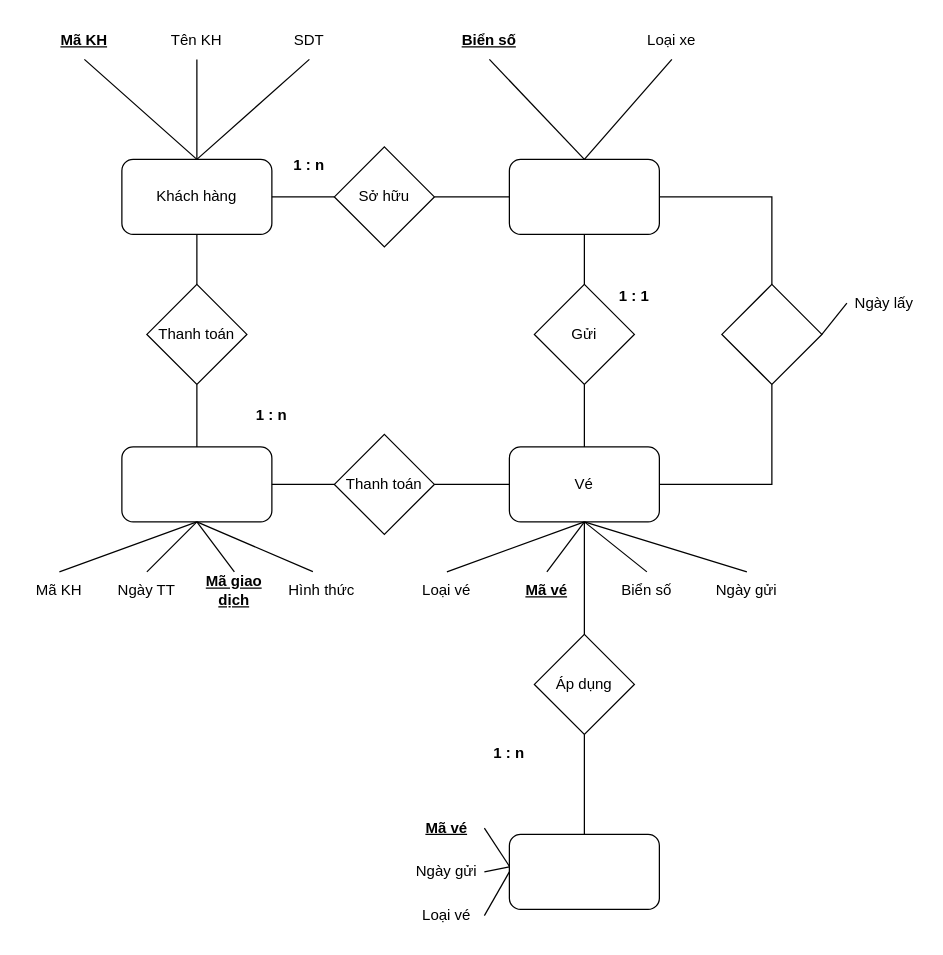
This 943x955 diagram has some shape labels left out. Each missing label, with the box of its shape:
Giá vé: (508, 833, 659, 909)
Lấy: (721, 283, 822, 384)
Phương thức thanh toán: (121, 446, 272, 522)
Xe: (508, 158, 659, 234)
